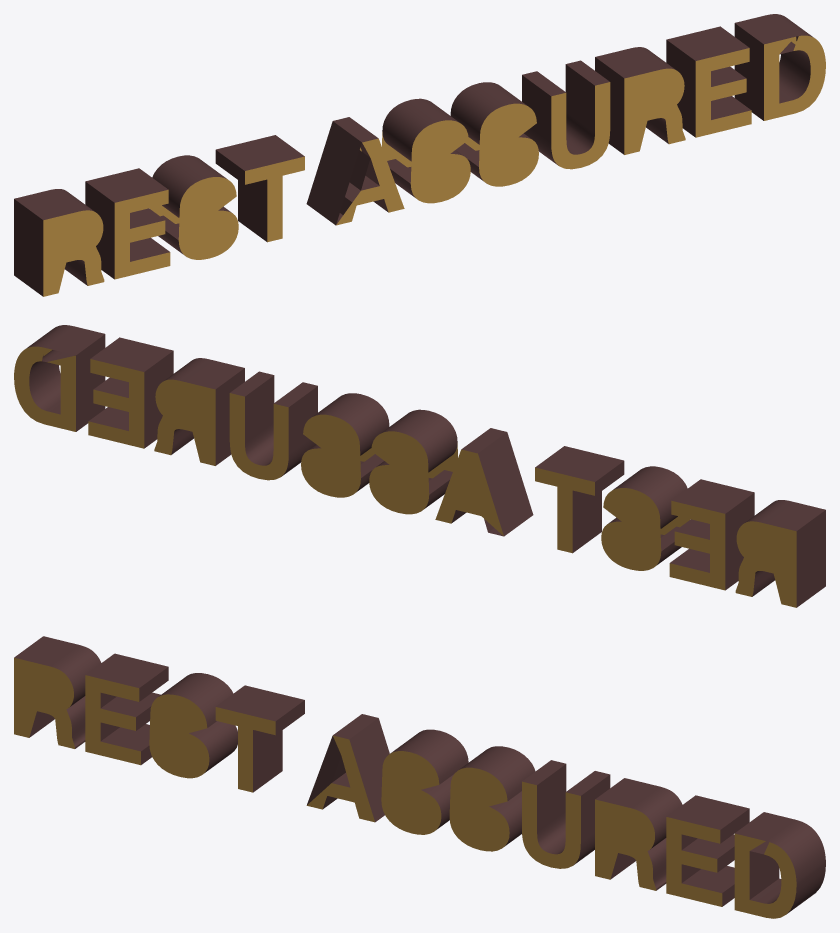
Rendered from rest assured letters for unity.fbx.
3 views of the same model, one above another, from view 1: azimuth 30°, elevation 25°; view 2: azimuth 150°, elevation 25°; view 3: azimuth 330°, elevation 25° (orthographic).
Visible parts, largest first — view 1: typeMesh1; view 2: typeMesh1; view 3: typeMesh1.
Part boxes in pixels (x1,y1,x2,y2): typeMesh1: (14, 14, 825, 296); typeMesh1: (14, 325, 825, 607); typeMesh1: (14, 636, 825, 918).
Bounding box in the file's own units: 154 × 15.2 × 10.
